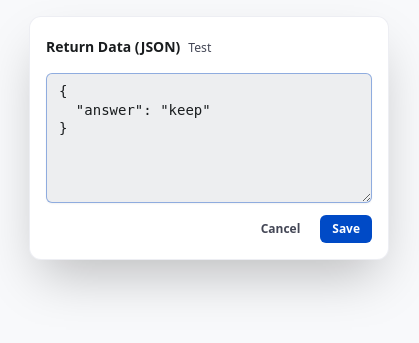
Test case: QuickEditPopup › returnData rejects broken JSON without replacing the existing map
Replace the text in the text box with "broken JSON" at (209, 138), box [46,73,372,203]
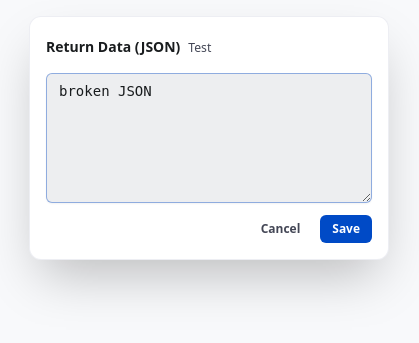
Click the button "Save" at (346, 229), box [320,215,372,243]
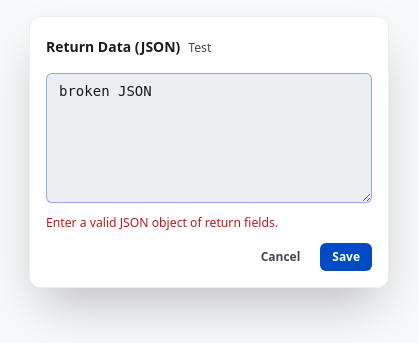
Result: the message shows "JSON object" at [46,214,278,231]
